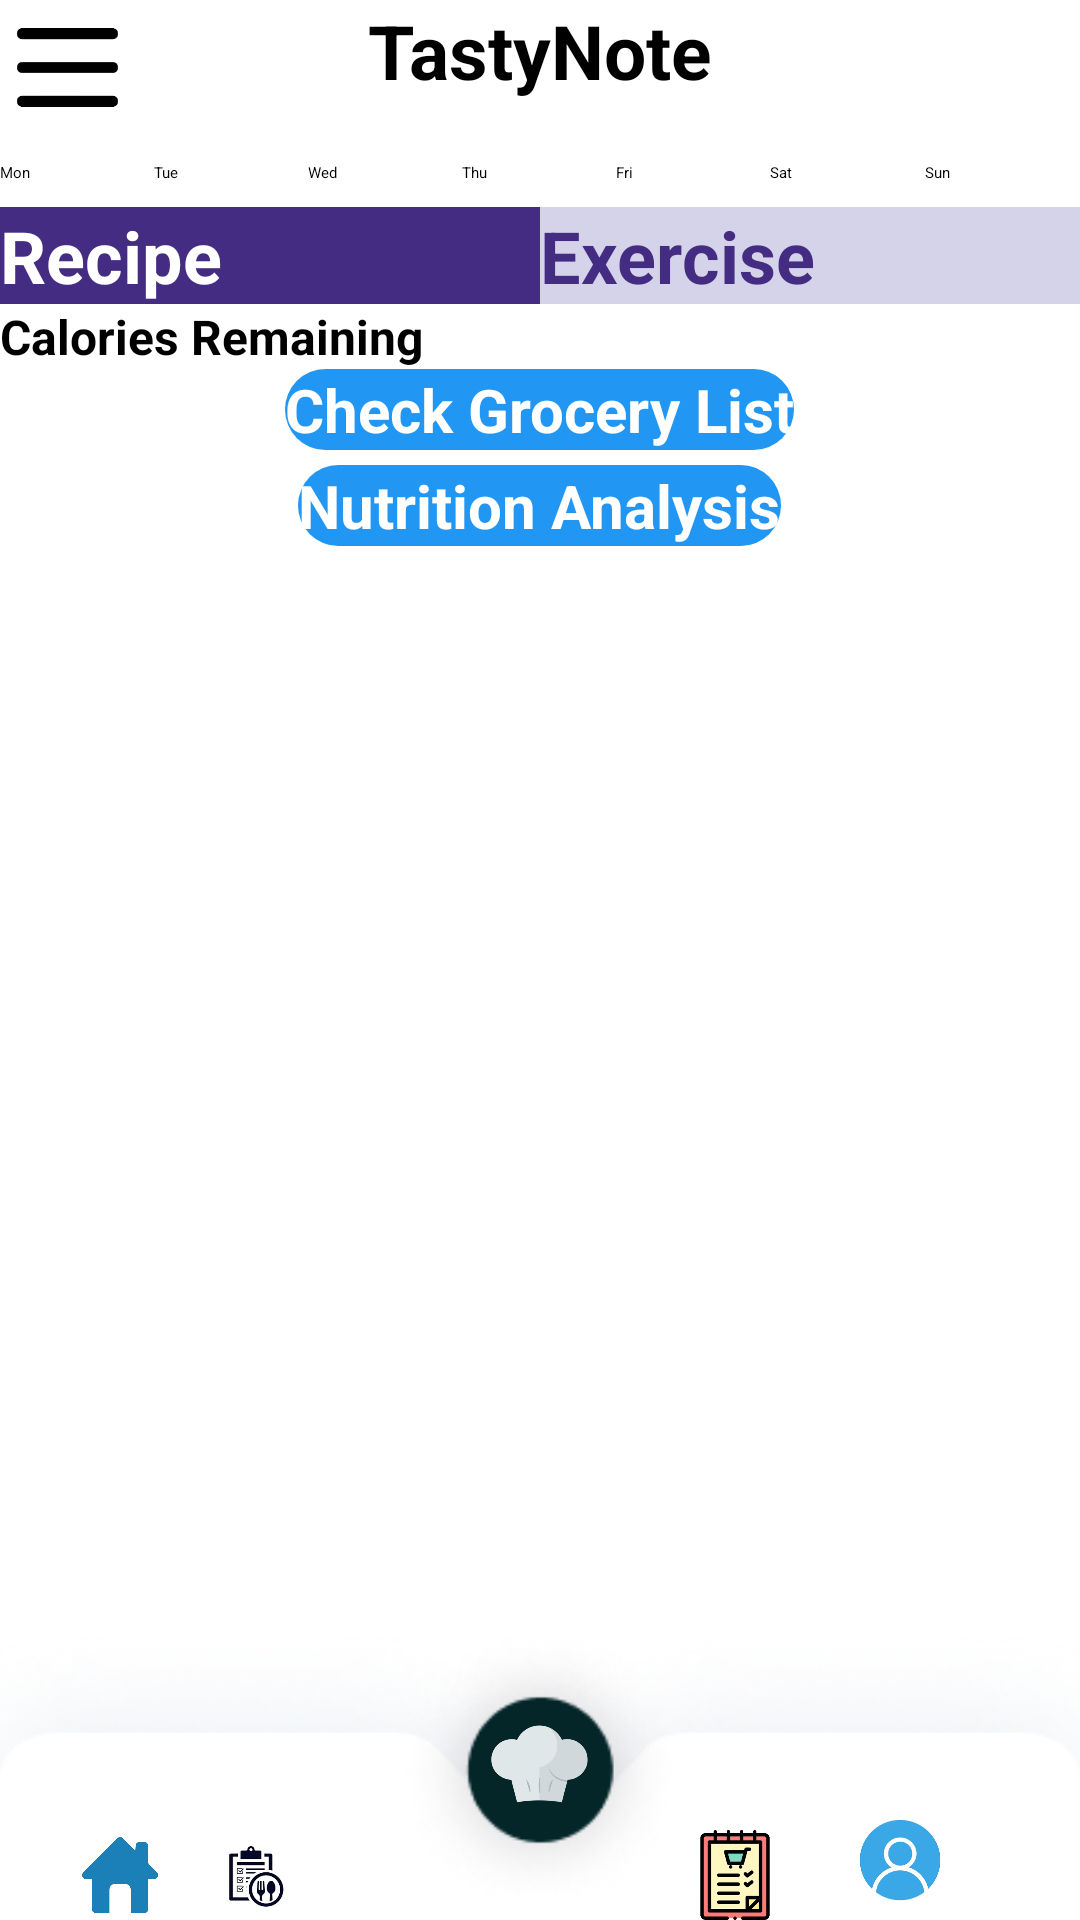

Icons on this 1080×1920 Android screen, each with its box as (x1, y1, x2, y2):
chef hat: (465, 1696, 614, 1833)
grocery list: (700, 1830, 770, 1920)
